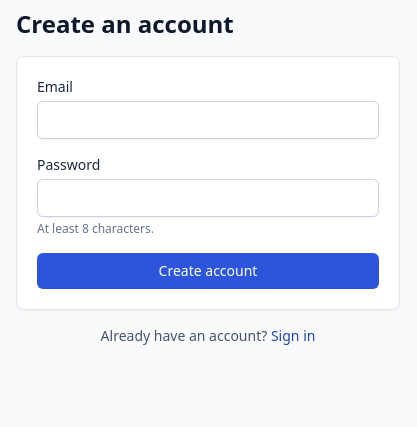
Test: AuthForm › shows field errors and general errors on registration
Expected: the text "At least 8 characters." is shown, 37,220 -> 154,237
Click the button "Create account".
click(208, 271)  # box 37,253 -> 379,289
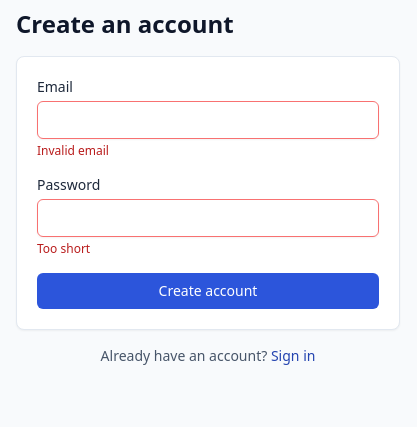
Result: the text "Invalid email" is shown at 37,142 -> 109,159
Result: the text "Too short" is shown at 37,240 -> 90,257
Click the button "Create account".
click(208, 291)  # box 37,273 -> 379,309
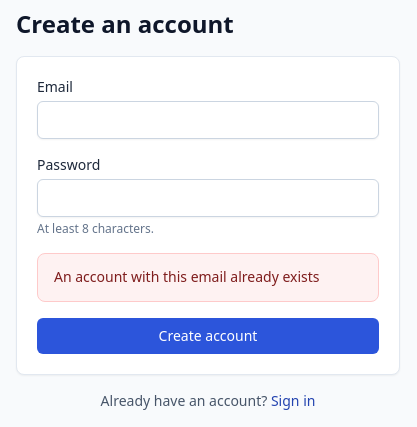
Result: the message shows "already exists" at 54,267 -> 320,286
